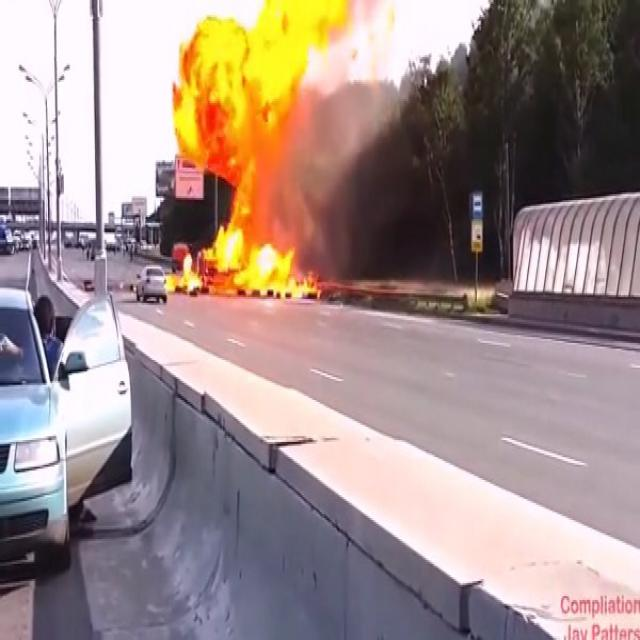fire: (177, 0, 356, 301)
